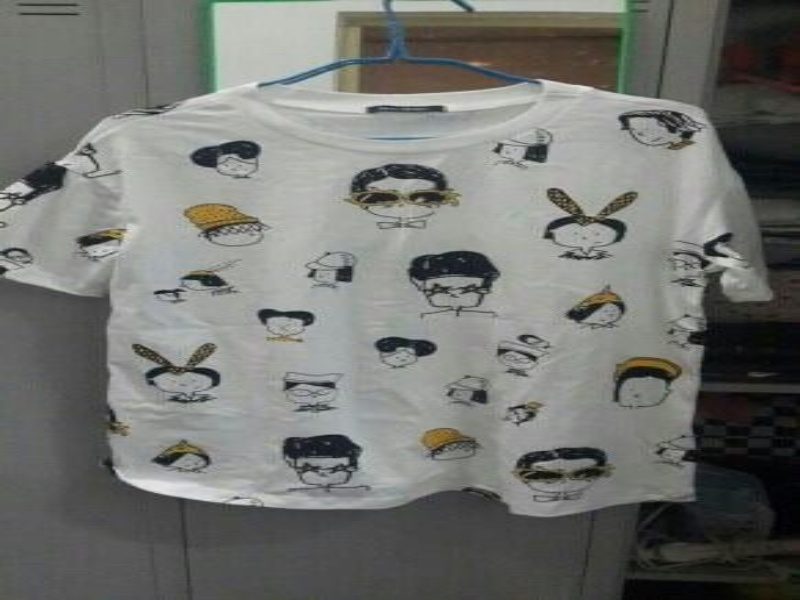short_sleeved_dress: (0, 71, 781, 520)
